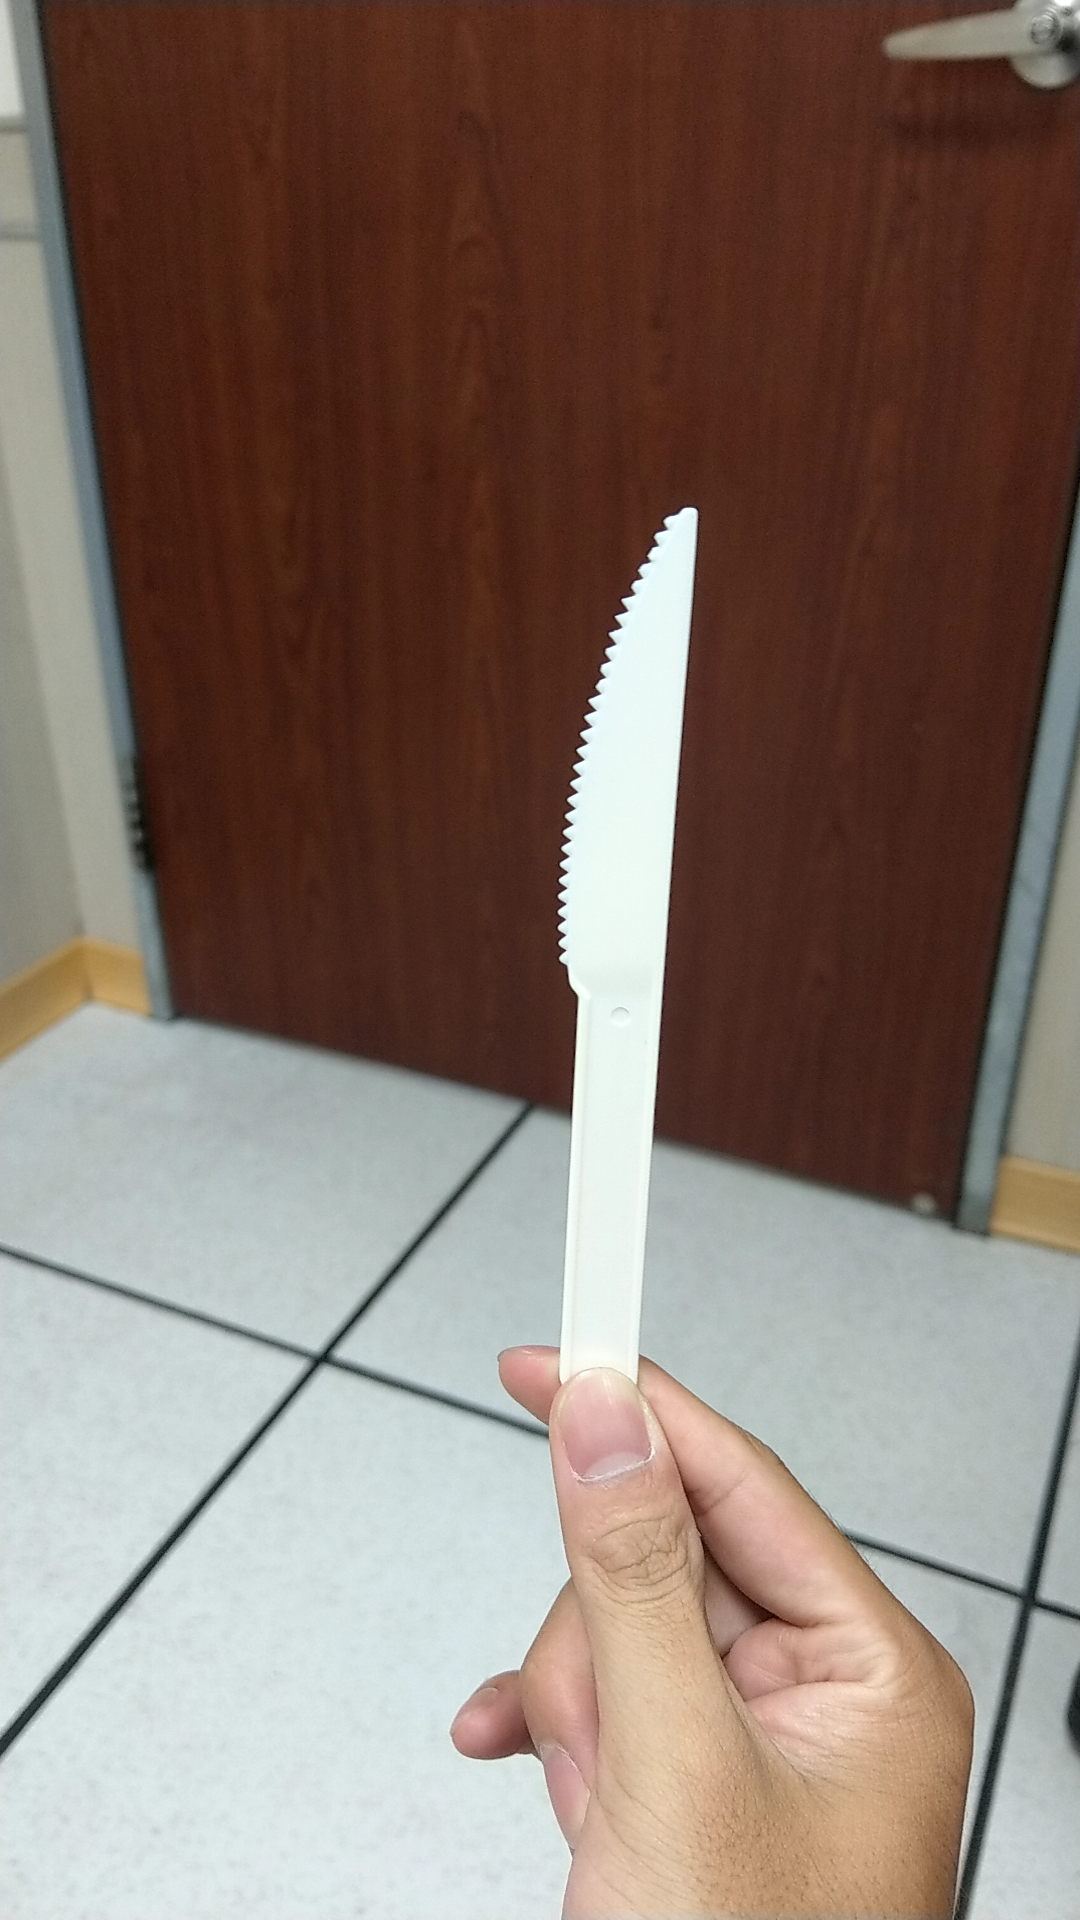knife: (534, 450, 735, 1379)
